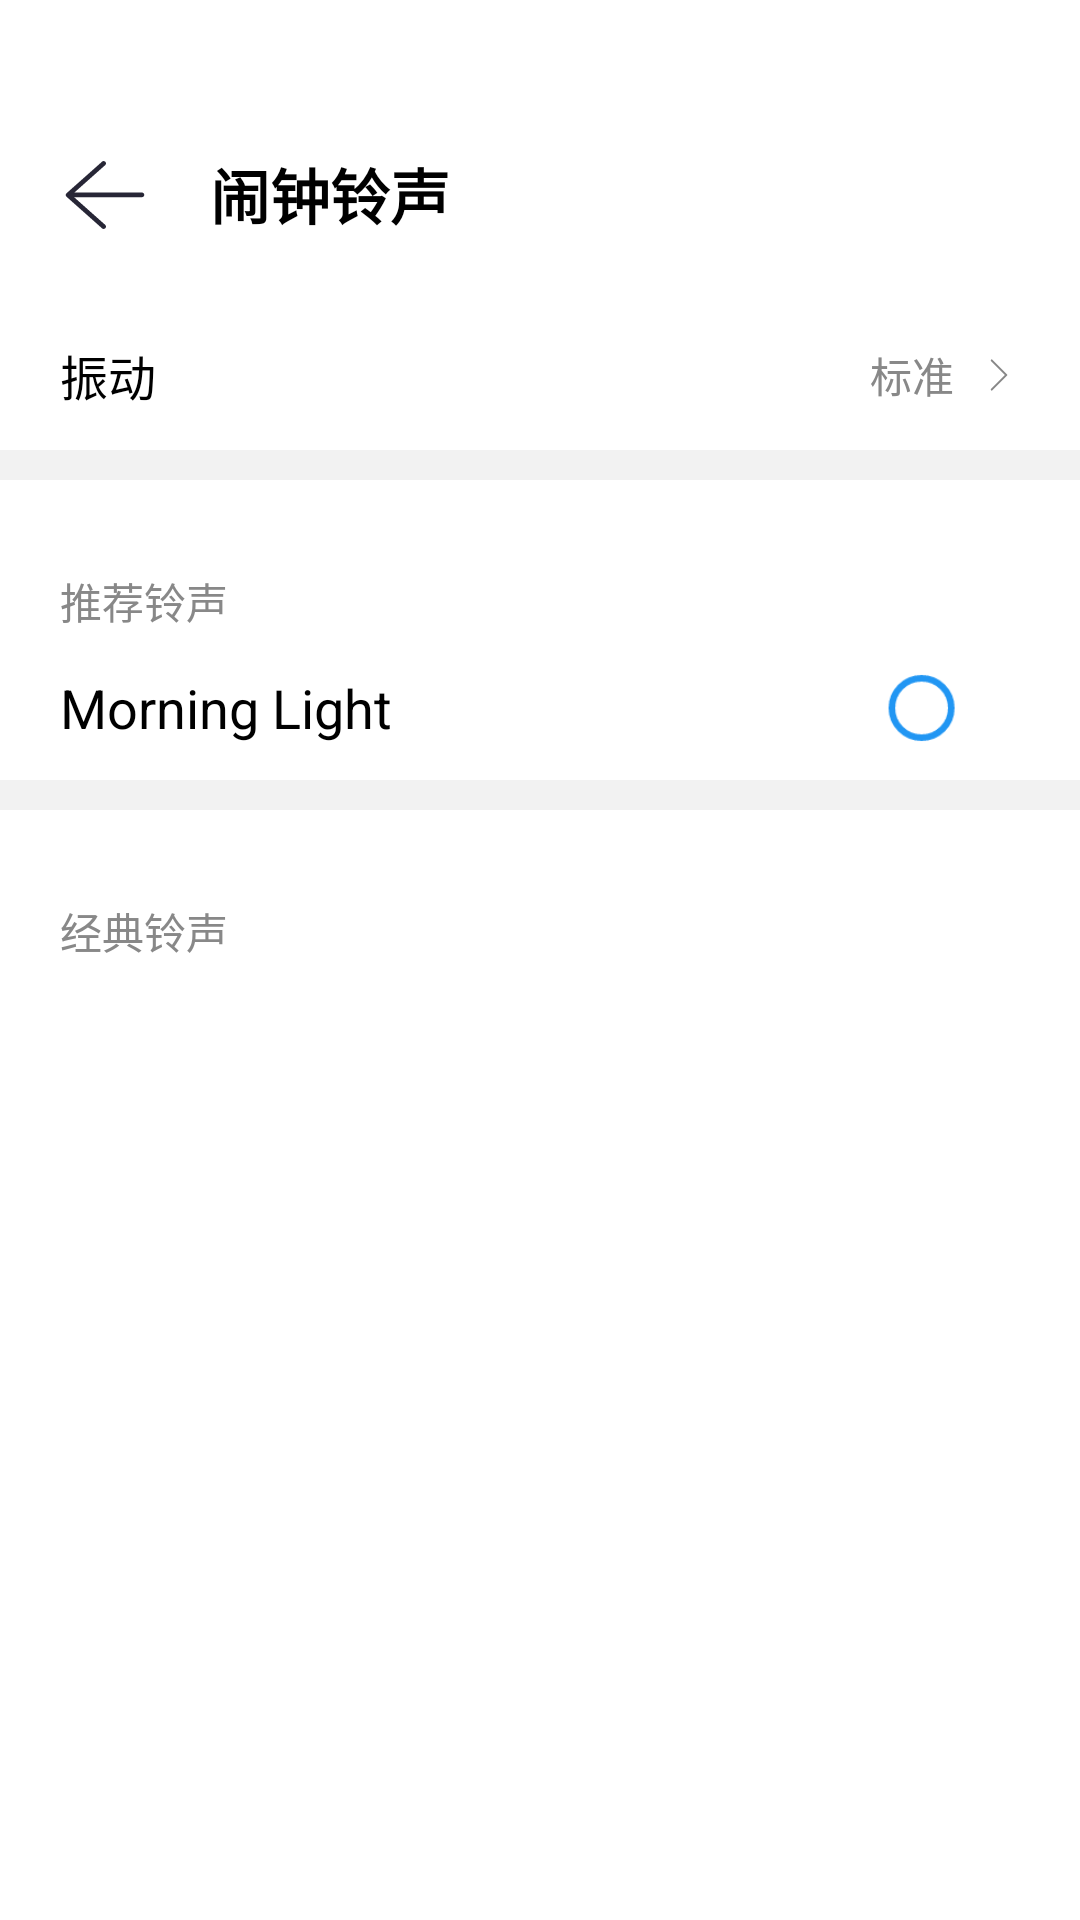

Icons on this 1080 × 1920 Android screen, each with its box as (x1, y1, x2, y2):
back arrow: (65, 161, 145, 229)
right arrow: (991, 359, 1007, 391)
